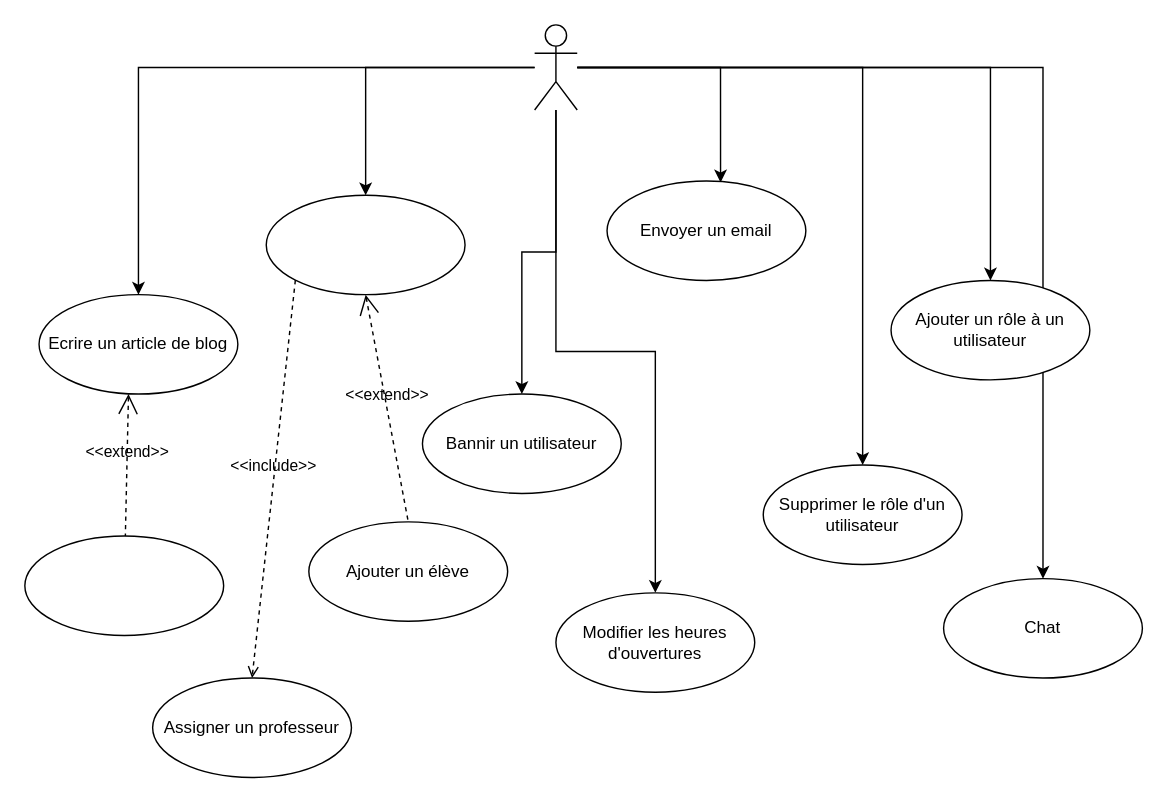
This 1167x802 diagram has some shape labels left out. Each missing label, with the box of its shape:
Créer un module: (265, 194, 465, 295)
Direction: (533, 23, 577, 110)
Epingler un article: (23, 535, 224, 635)
